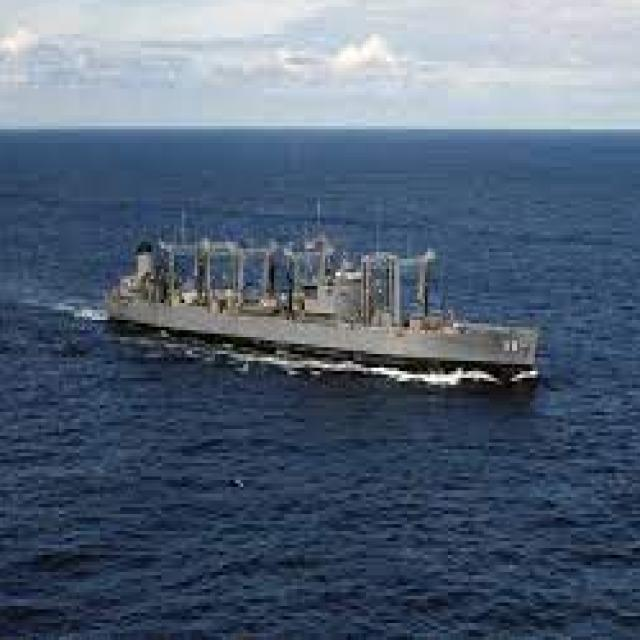navalvessels: (89, 204, 545, 392)
